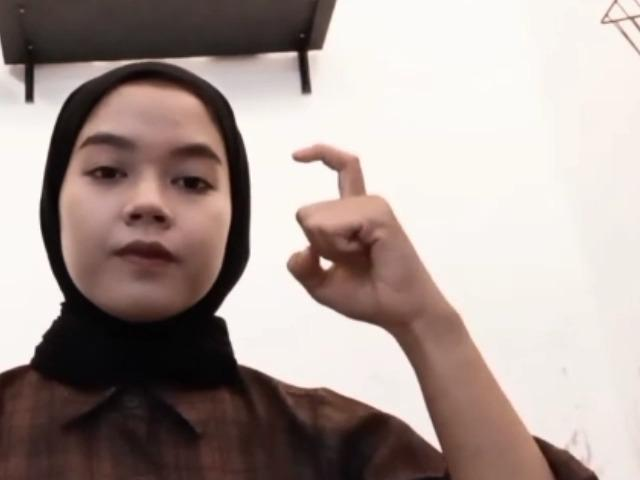X: (271, 129, 454, 329)
